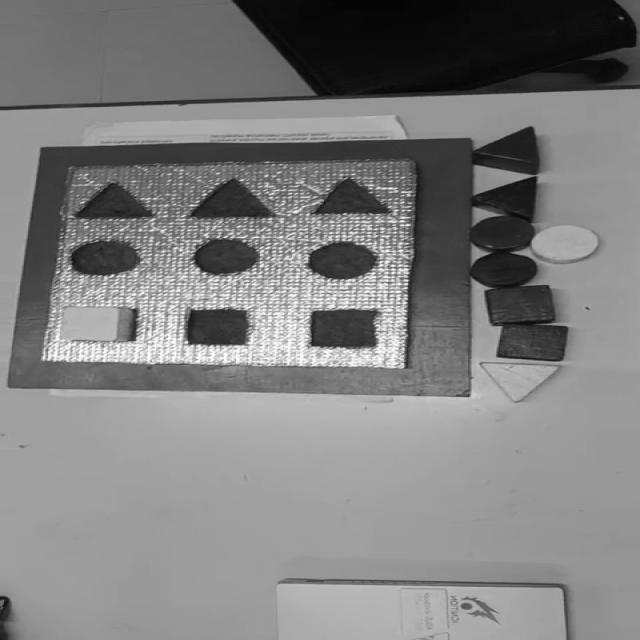bcircle: (469, 252, 538, 288)
bcube: (495, 324, 568, 362)
btriangle: (471, 176, 538, 220)
mtcircle: (69, 238, 142, 275), (306, 242, 377, 278), (192, 238, 261, 275)
mtcube: (308, 308, 378, 348), (186, 308, 250, 346)
mttriangle: (189, 177, 276, 219), (73, 180, 152, 220), (312, 176, 392, 215)
rcircle: (469, 215, 535, 251)
rcube: (484, 285, 556, 326)
rtriangle: (472, 125, 542, 173)
wb: (42, 158, 418, 369)
ycircle: (527, 222, 600, 264)
ycube: (57, 304, 133, 343)
ytriangle: (479, 361, 560, 403)
